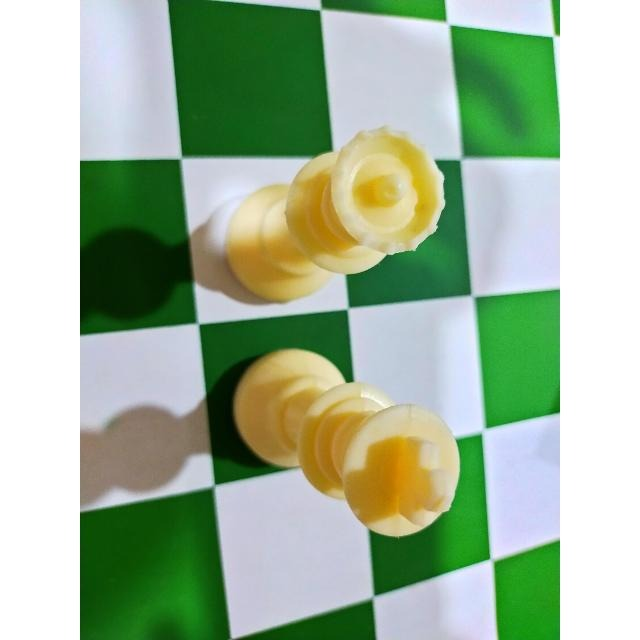white-king: (225, 343, 475, 544)
white-queen: (211, 121, 448, 310)
